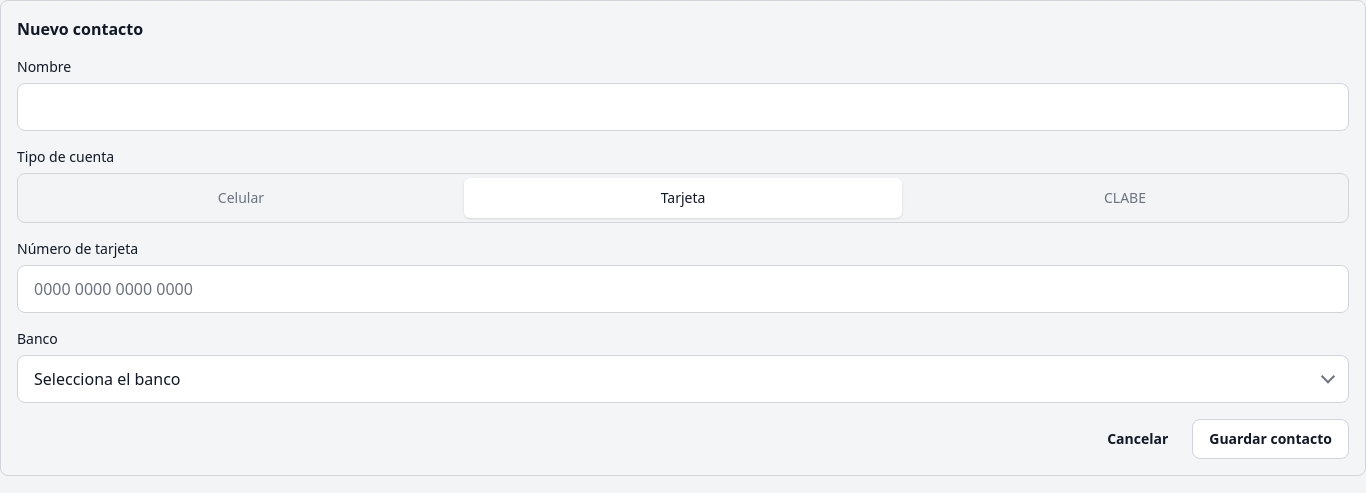
NewContactForm › [SPEC-CT-AC04] CARD usa su máscara
The image size is (1366, 493).
Type "4915600212345675" into the field labelled "Número de tarjeta" at x=683, y=289, box [34,266,1332,312]
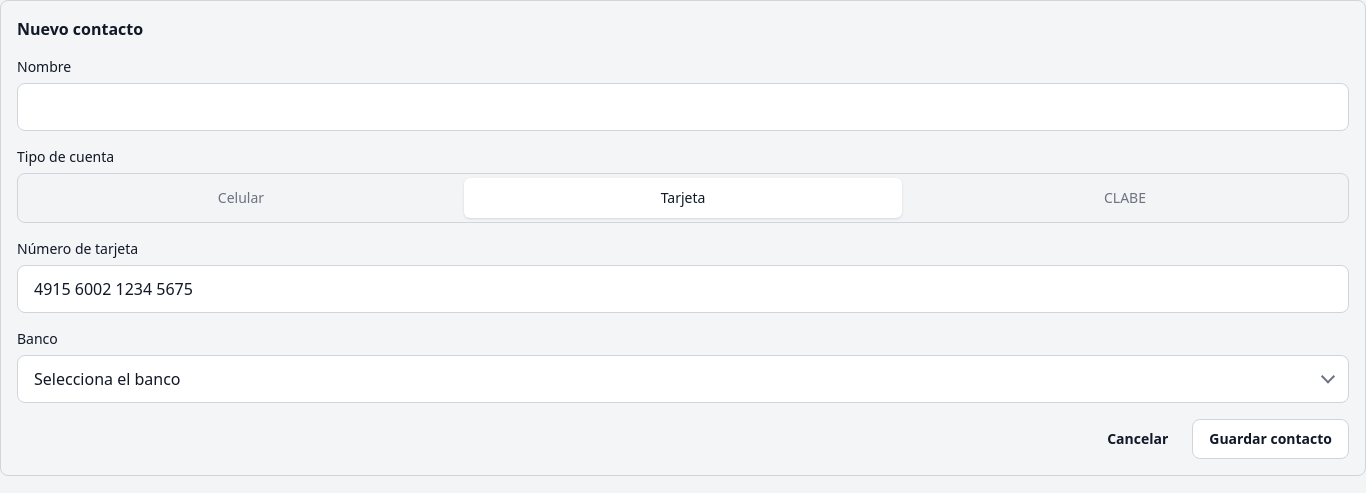
expect the field labelled "Número de tarjeta" holds "4915 6002 1234 5675": met, box [34,266,1332,312]
